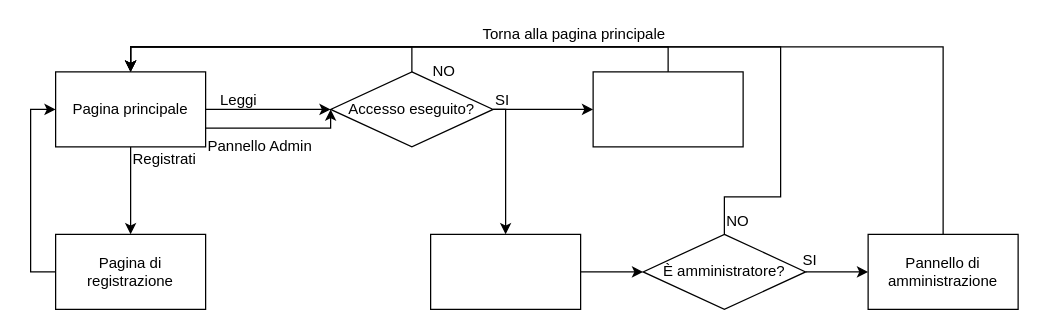
This 1040x331 diagram has some shape labels left out. The centre of each missing label's shape, as x and y in pixels:
Controllo utente: (505,271)
Pagina dettagliata di un articolo: (667,109)
